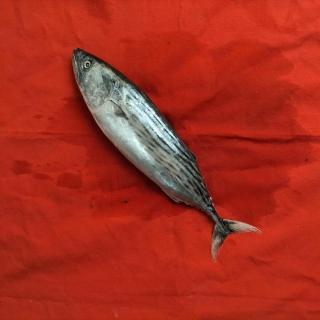Ikan: (66, 44, 264, 269)
